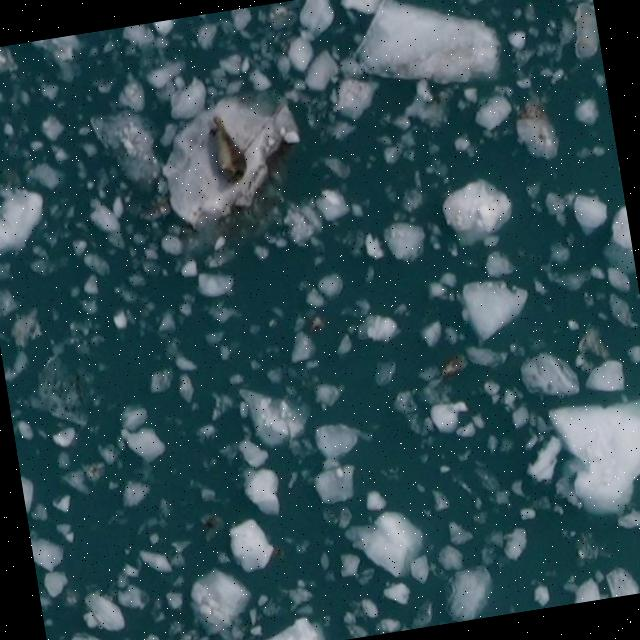seal: (197, 115, 255, 183)
